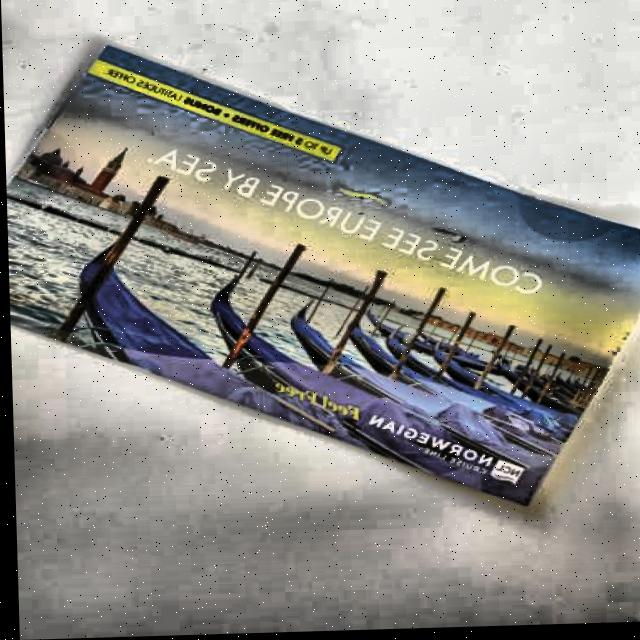paper: (1, 28, 640, 520)
